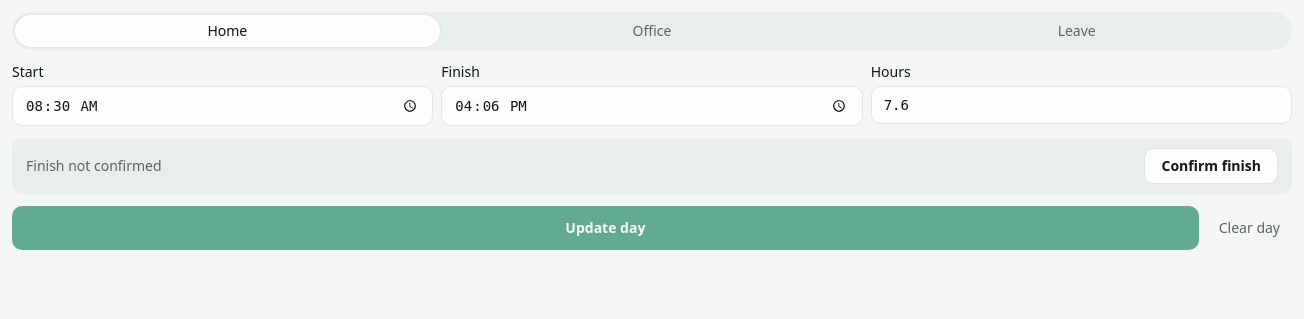
Test: DayEditor › button and late notice › shows the late notice for a past day only once the form would change it
Replace the text in the time field labelled "Finish" with "16:30": (652, 106) [441, 86, 863, 126]
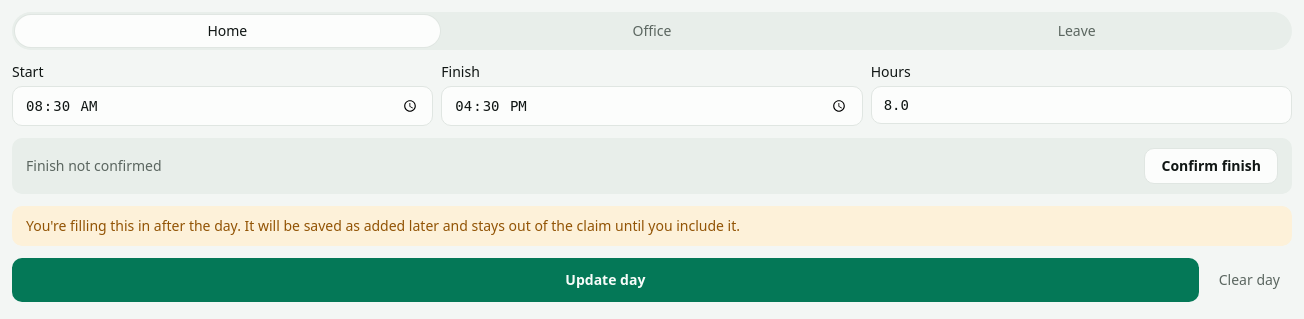
Check: the text "You're filling this in after the day. It will be saved as added later and stays out of the claim until you include it." is shown, box [26, 216, 740, 235]
